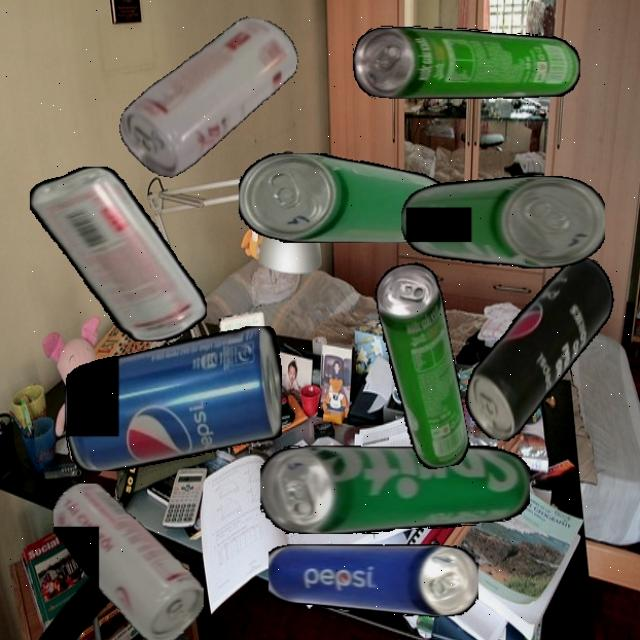debris: (113, 0, 303, 195), (460, 243, 619, 455), (64, 325, 282, 471), (29, 166, 207, 342), (260, 445, 530, 534), (53, 482, 203, 640), (372, 260, 472, 473), (238, 152, 451, 243), (400, 176, 605, 269), (353, 24, 580, 99), (267, 544, 478, 618)
